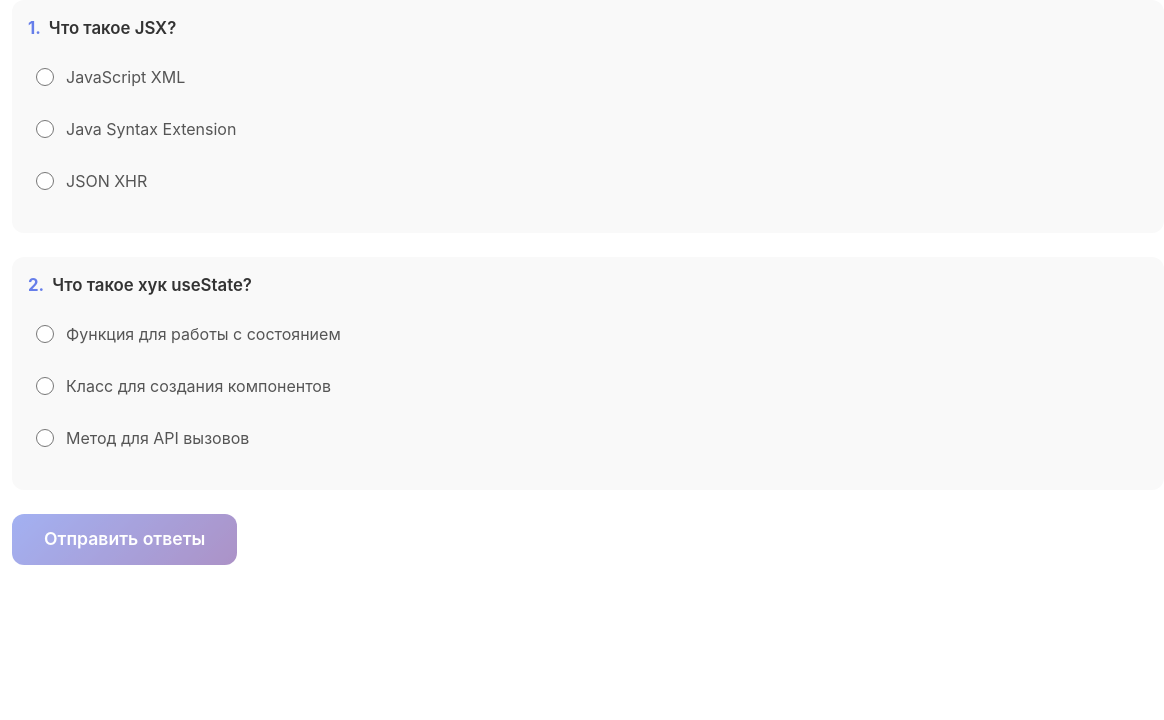
it: QuizRunner › should show correct and wrong marks after submission
Step 1. Click the radio button labelled "JavaScript XML" → (45, 77), box [36,68,54,86]
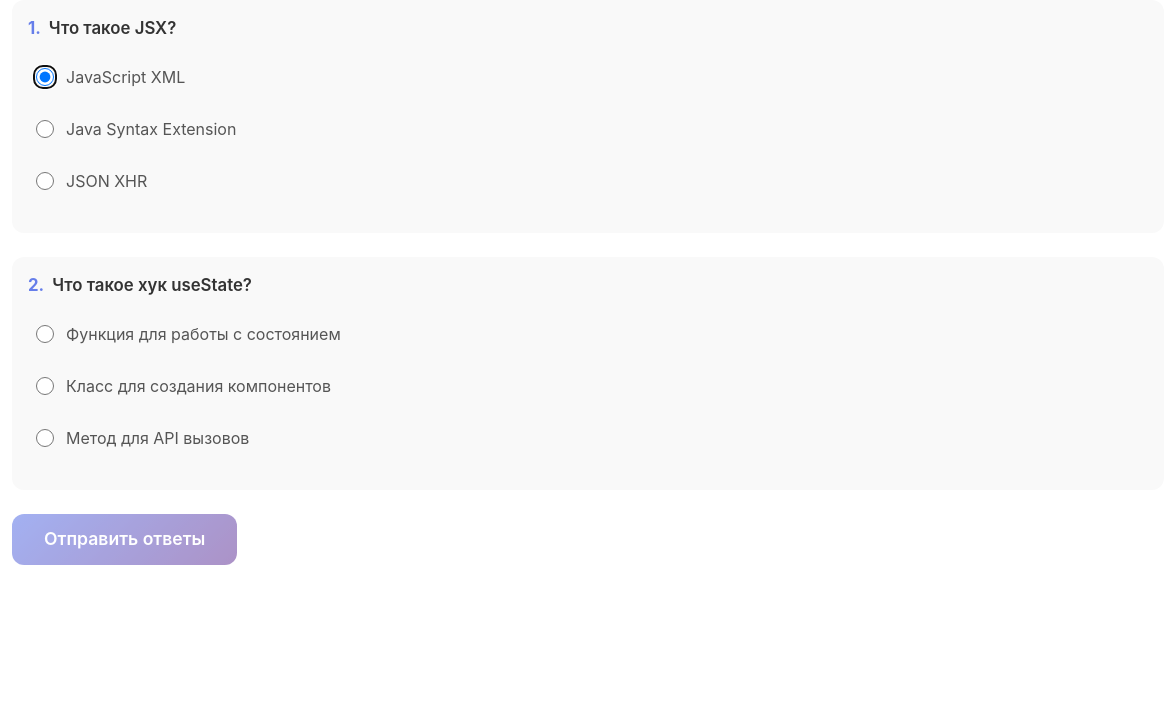
Step 2. Click the radio button labelled "Класс для создания компонентов" → (45, 386), box [36,377,54,395]
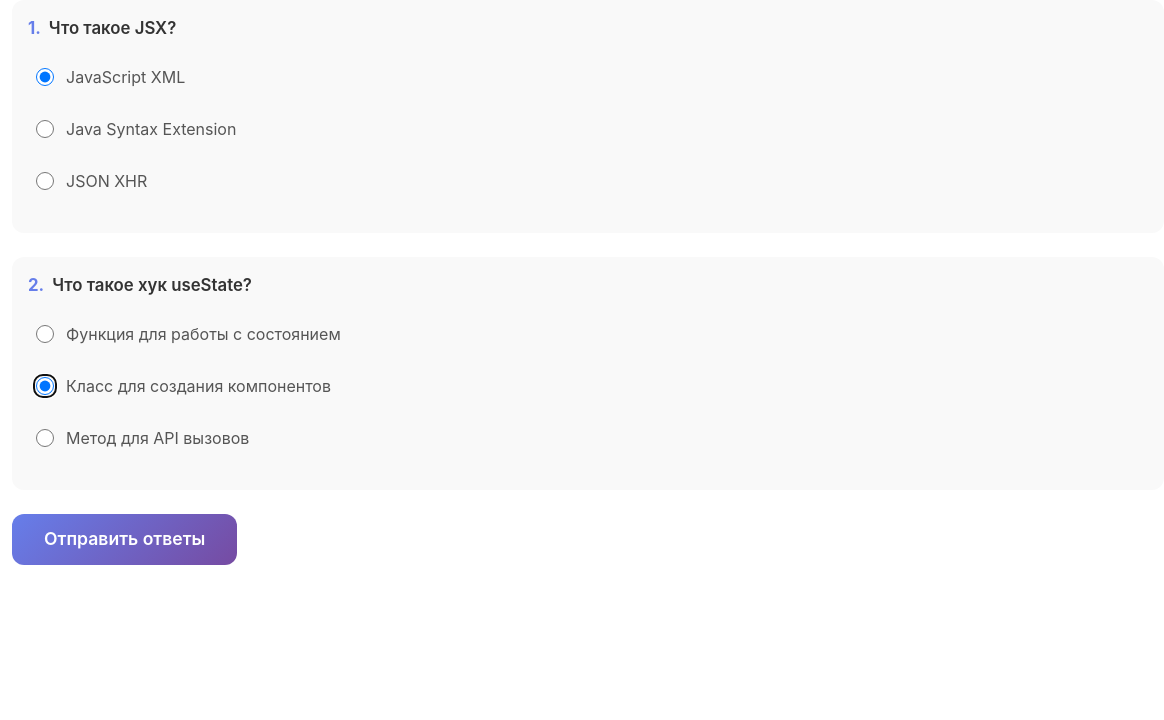
Step 3. Click the button "Отправить ответы" → (125, 540), box [12,514,237,565]
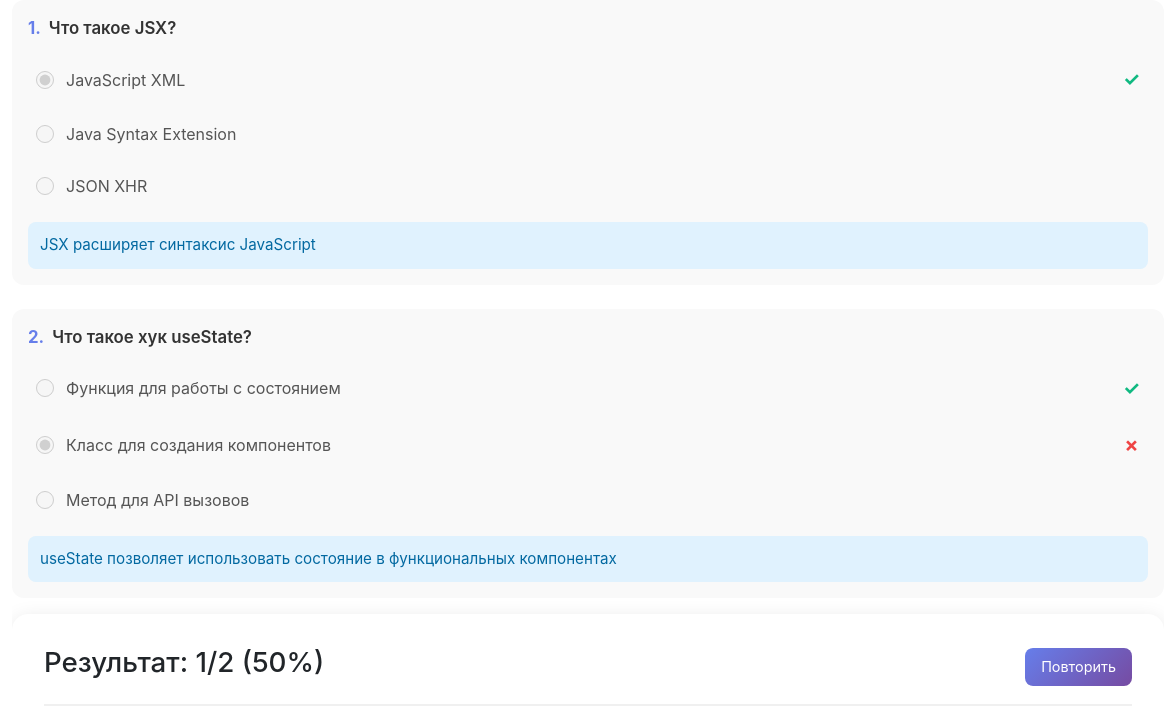
Check: the text "✓" in the row of "JavaScript XML" is shown, box [1123,67,1140,91]
Check: the text "✗" is shown, box [1123,431,1140,460]
